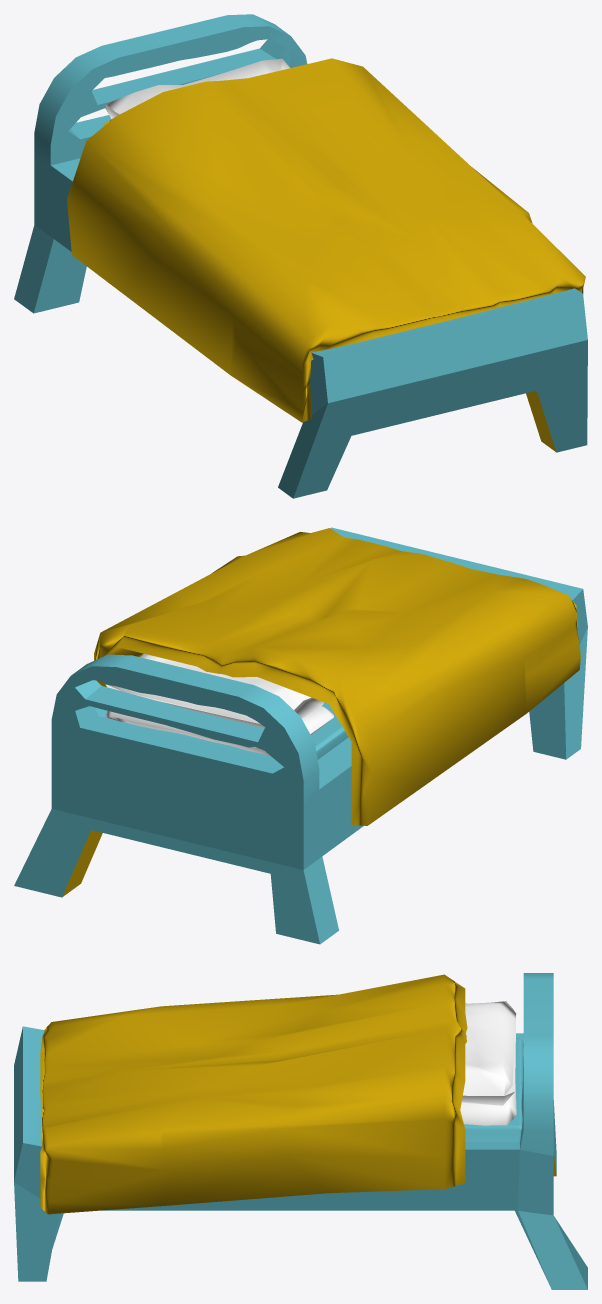
Rendered from SingleBed.fbx.
3 views of the same model, one above another, from view 1: azimuth 30°, elevation 25°; view 2: azimuth 150°, elevation 25°; view 3: azimuth 270°, elevation 25° (orthographic). The views are drawn at different scales.
Visible parts, largest first — view 1: polySurface5; view 2: polySurface5; view 3: polySurface5.
Boxes of the visible parts, bbox=[...] form: polySurface5: bbox=[14, 14, 587, 498]; polySurface5: bbox=[14, 527, 587, 944]; polySurface5: bbox=[14, 973, 587, 1289].
Bounding box in the file's own units: 84.92 × 62.21 × 151.
